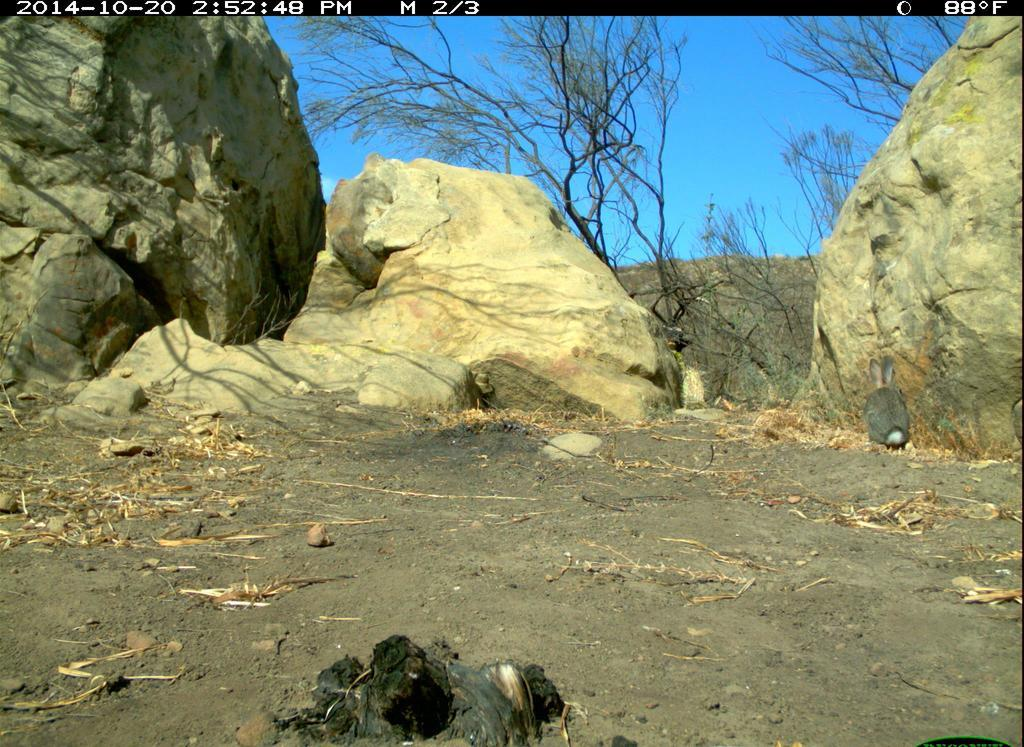rabbit: (835, 341, 944, 475)
